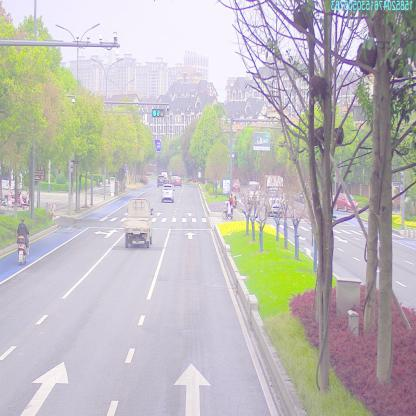traffic-light: (153, 108, 165, 118)
